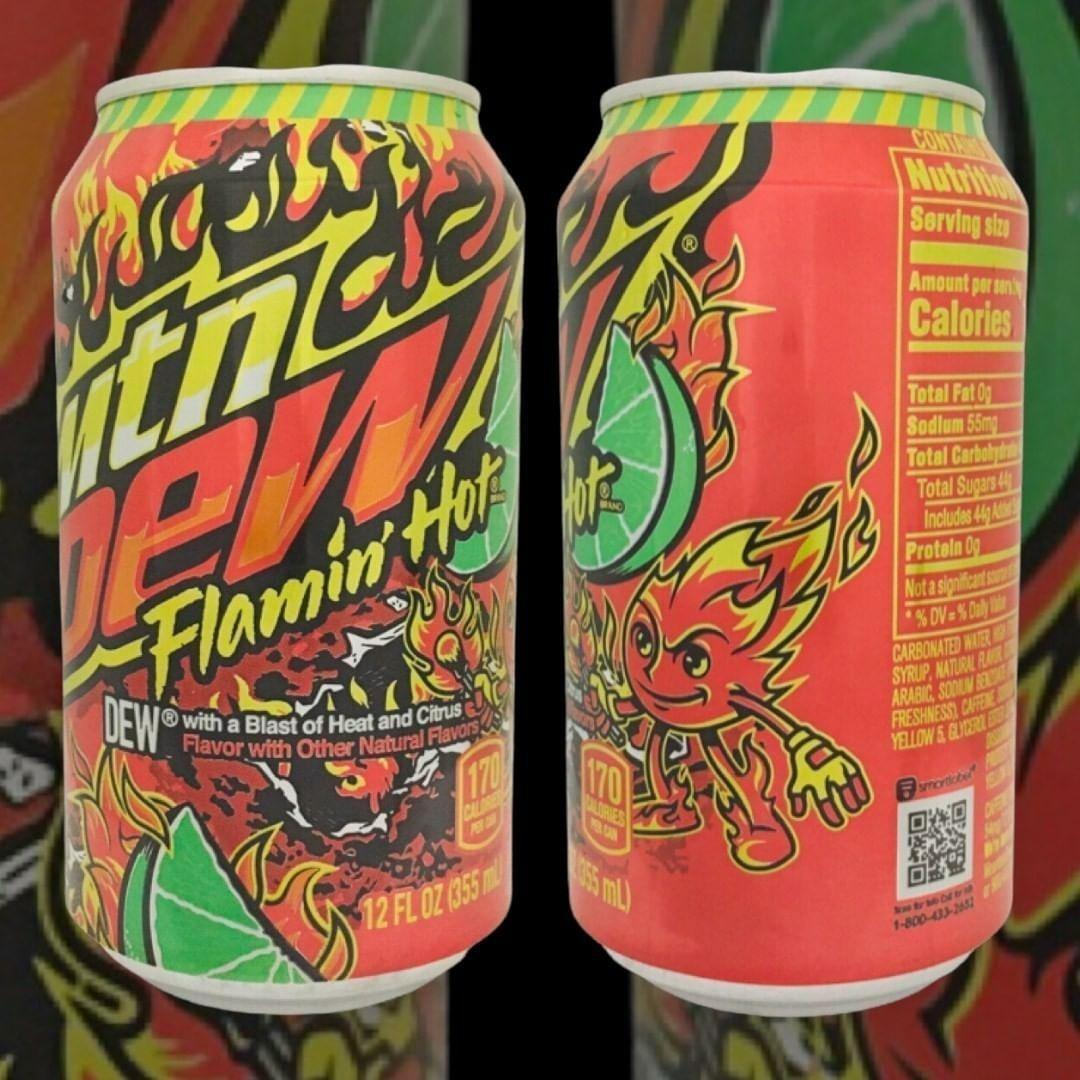tin can: (34, 61, 544, 1026), (541, 57, 1047, 1023)
